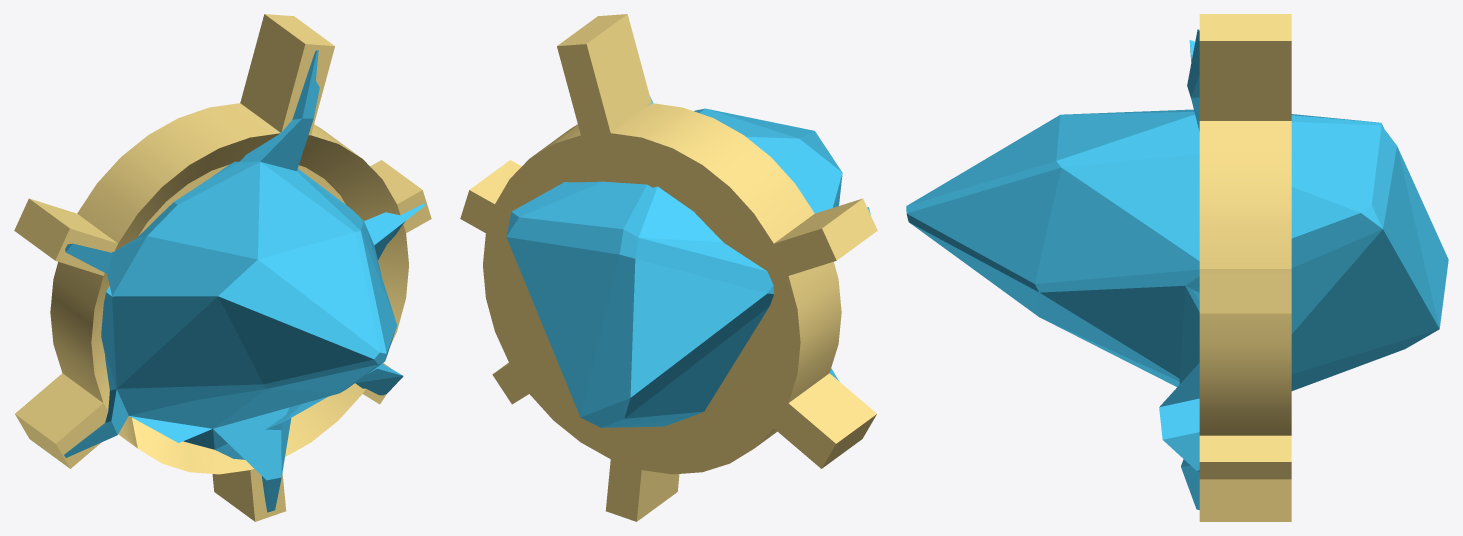
File: CrystalReceptor.fbx
The picture shows the model from 3 angles, left to right: view 1: azimuth 30°, elevation 25°; view 2: azimuth 150°, elevation 25°; view 3: azimuth 270°, elevation 25°; orthographic projection. The views are drawn at different scales.
Visible parts, largest first — view 1: CrystalParede; view 2: CrystalParede; view 3: CrystalParede.
Boxes of the visible parts, bbox=[...] form: CrystalParede: bbox=[14, 14, 431, 521]; CrystalParede: bbox=[460, 14, 877, 521]; CrystalParede: bbox=[906, 14, 1448, 521].
Bounding box in the file's own units: 71.31 × 84.29 × 79.38.
